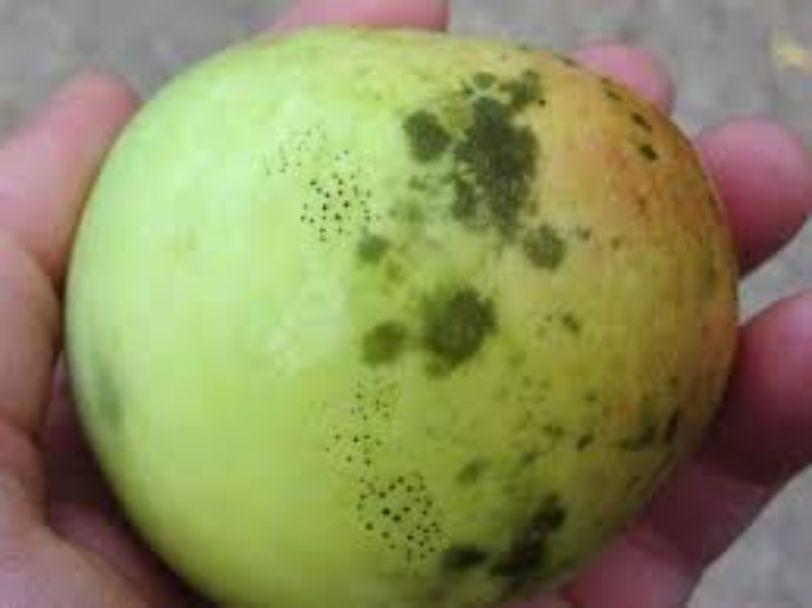BLOTCH: (54, 4, 748, 600)
